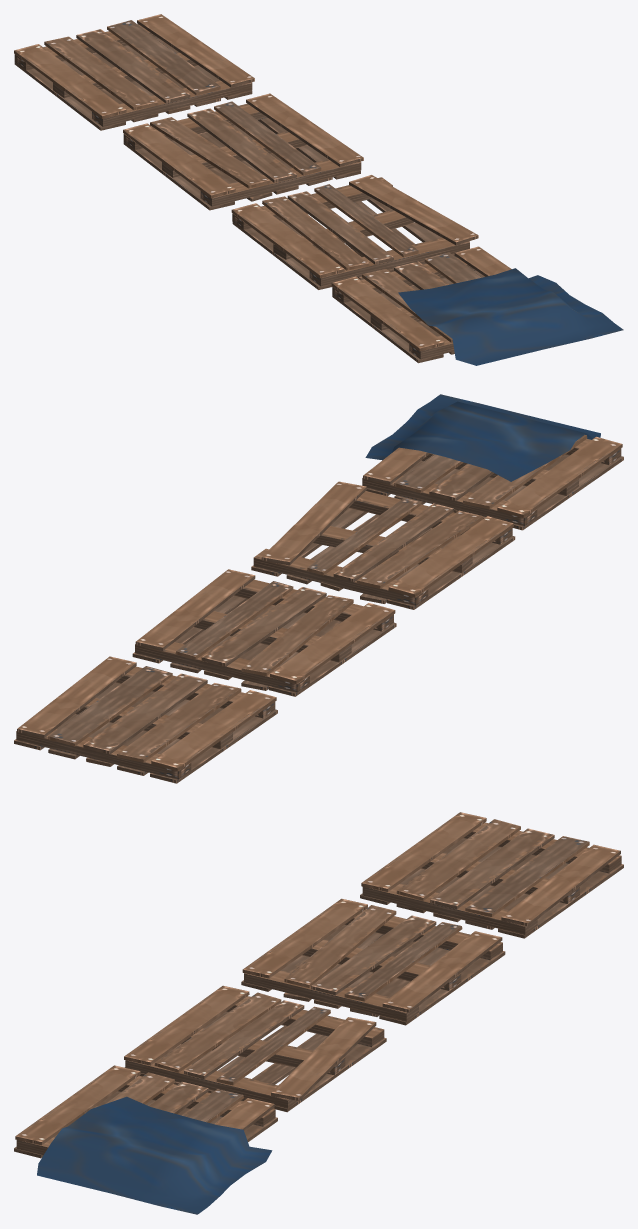
File: Paletten.fbx
The picture shows the model from 3 angles, top to bottom: view 1: azimuth 30°, elevation 25°; view 2: azimuth 150°, elevation 25°; view 3: azimuth 330°, elevation 25°; orthographic projection. The views are drawn at different scales.
Parts seen in each view (by area): view 1: Palette04, Palette02, Palette01, Palette03; view 2: Palette04, Palette02, Palette01, Palette03; view 3: Palette04, Palette02, Palette01, Palette03.
Part boxes in pixels (x1=…): Palette04: x1=331, y1=246, x2=623, y2=365; Palette02: x1=123, y1=93, x2=363, y2=210; Palette01: x1=14, y1=14, x2=254, y2=130; Palette03: x1=231, y1=175, x2=478, y2=289; Palette04: x1=362, y1=394, x2=623, y2=530; Palette02: x1=132, y1=569, x2=396, y2=696; Palette01: x1=14, y1=656, x2=277, y2=783; Palette03: x1=251, y1=481, x2=515, y2=609; Palette04: x1=14, y1=1065, x2=277, y2=1214; Palette02: x1=241, y1=898, x2=505, y2=1025; Palette01: x1=360, y1=812, x2=623, y2=938; Palette03: x1=124, y1=985, x2=386, y2=1112.
Size of the model in its own units: 238 by 29.9 by 941.
